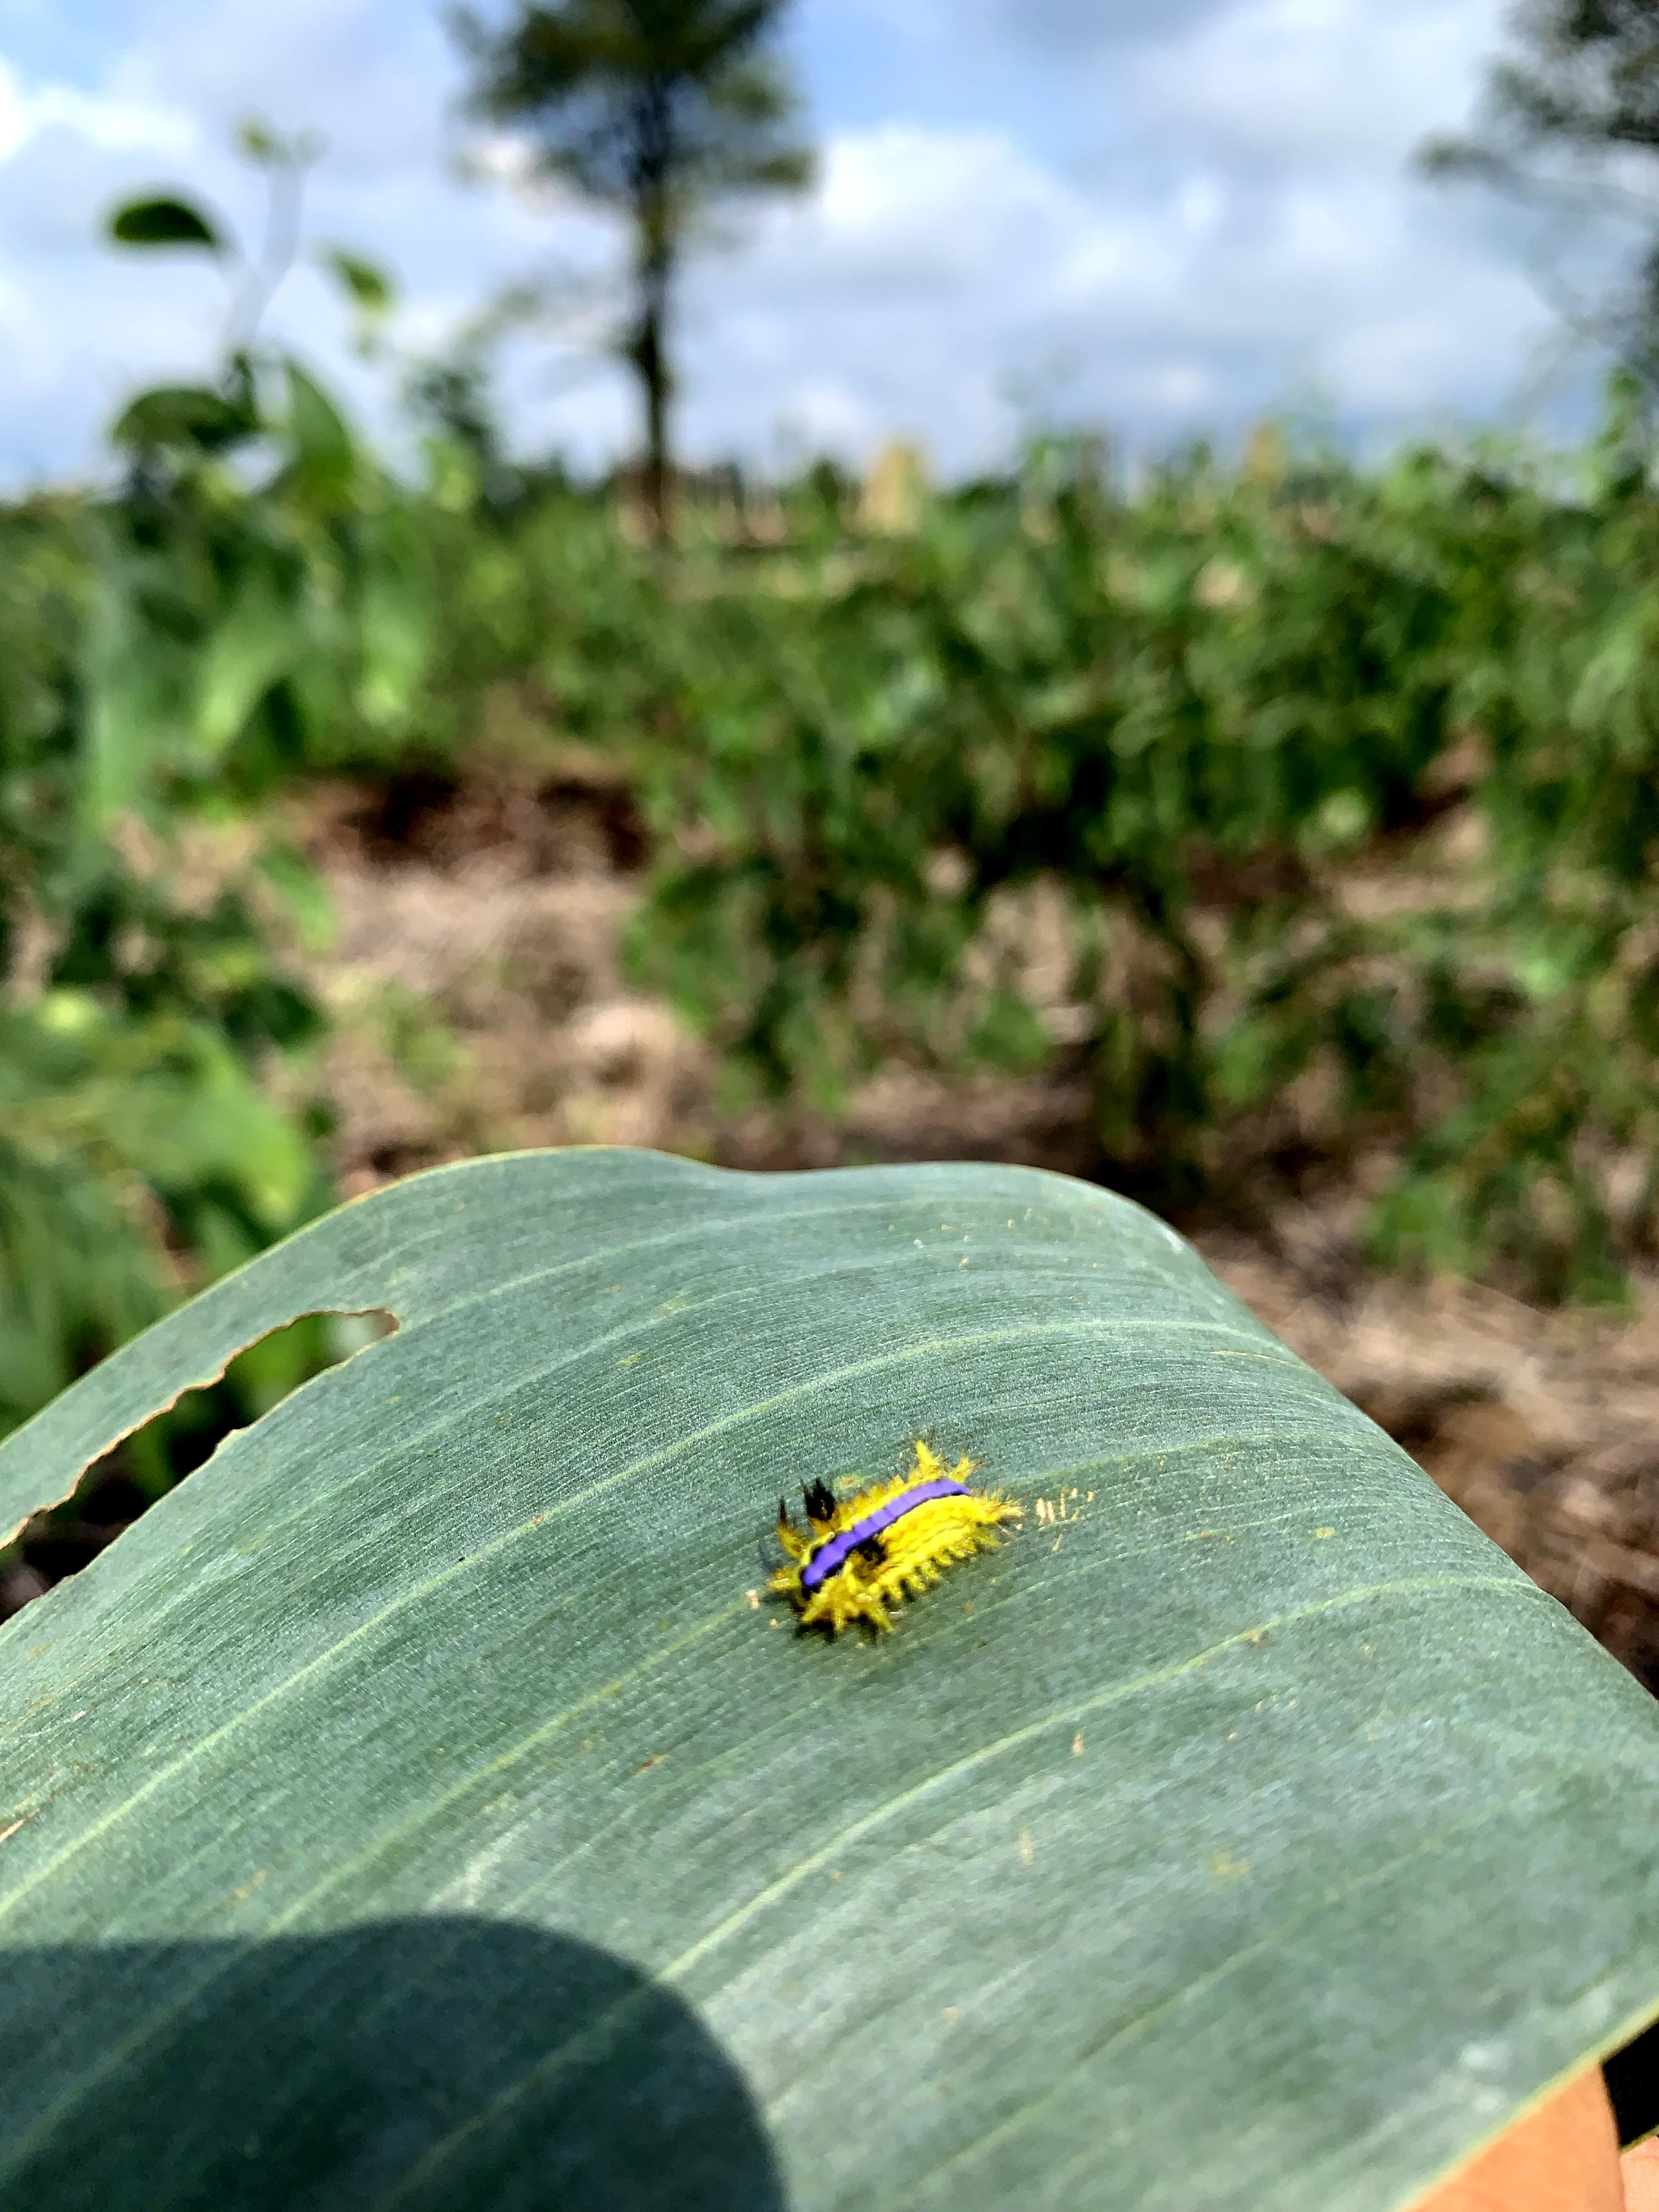Caterpillar: (739, 1421, 1021, 1689)
